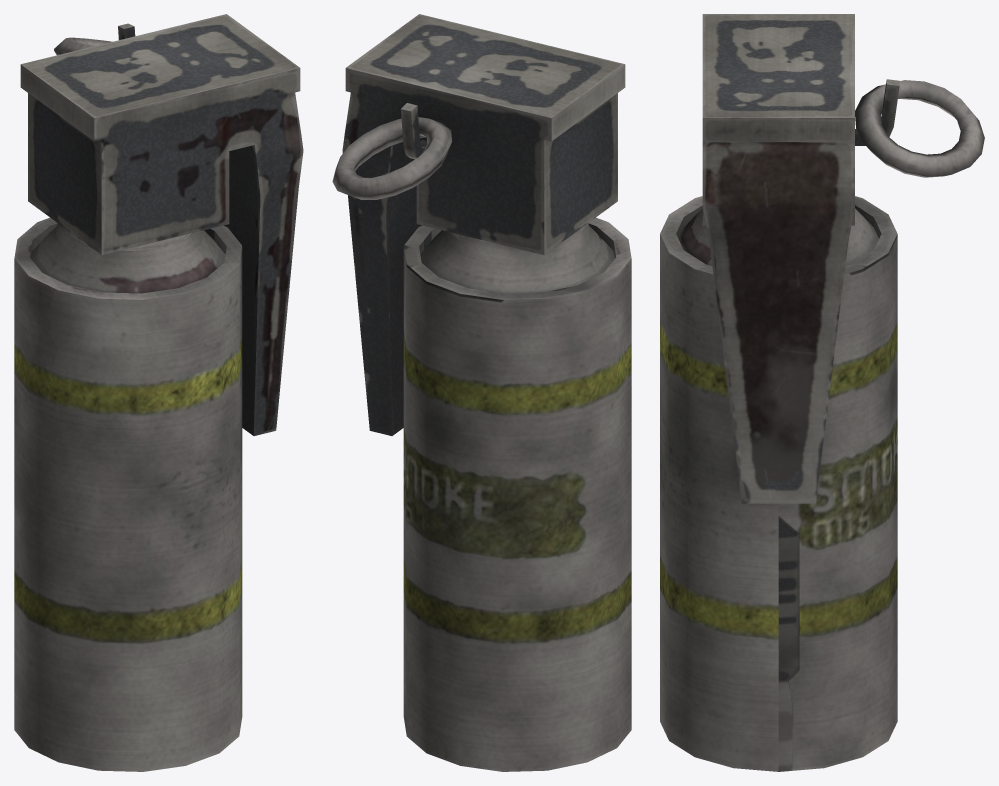
File: smoke_grenade.glb
The picture shows the model from 3 angles, left to right: view 1: azimuth 30°, elevation 25°; view 2: azimuth 150°, elevation 25°; view 3: azimuth 270°, elevation 25°; orthographic projection. The views are drawn at different scales.
Parts seen in each view (by area): view 1: smoke_low, smokehaut_low, incendiaryrond_low; view 2: smoke_low, smokehaut_low, incendiaryrond_low; view 3: smoke_low, smokehaut_low, incendiaryrond_low.
Part boxes in pixels (x1,y1,x2,y2): smoke_low: (14,217,242,771); smokehaut_low: (20,14,303,435); incendiaryrond_low: (54,37,112,55); smoke_low: (403,217,631,771); smokehaut_low: (342,14,625,435); incendiaryrond_low: (332,117,451,199); smoke_low: (660,196,897,771); smokehaut_low: (702,14,899,503); incendiaryrond_low: (855,80,984,177).
Size of the model in its own units: 0.0623 by 0.1626 by 0.0712.
1 material, 1 textured.
